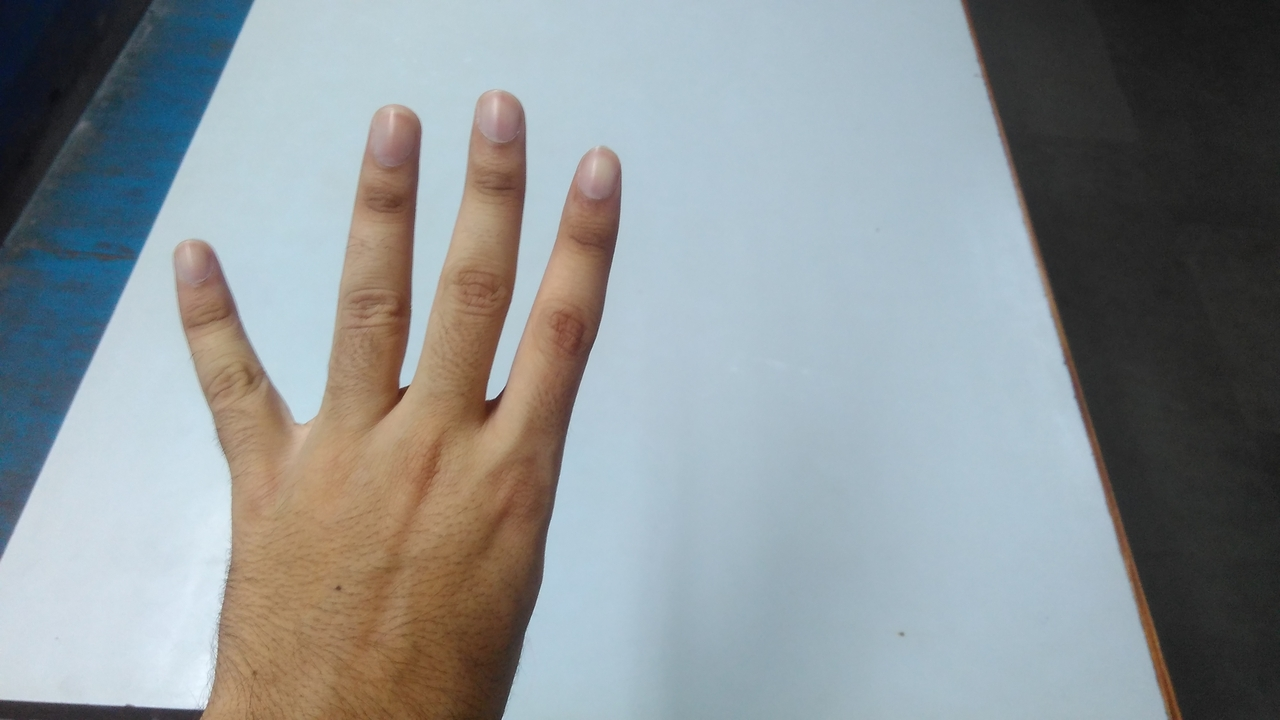fingertip: (156, 228, 222, 294), (354, 102, 422, 162), (562, 140, 628, 200), (464, 88, 526, 144)
